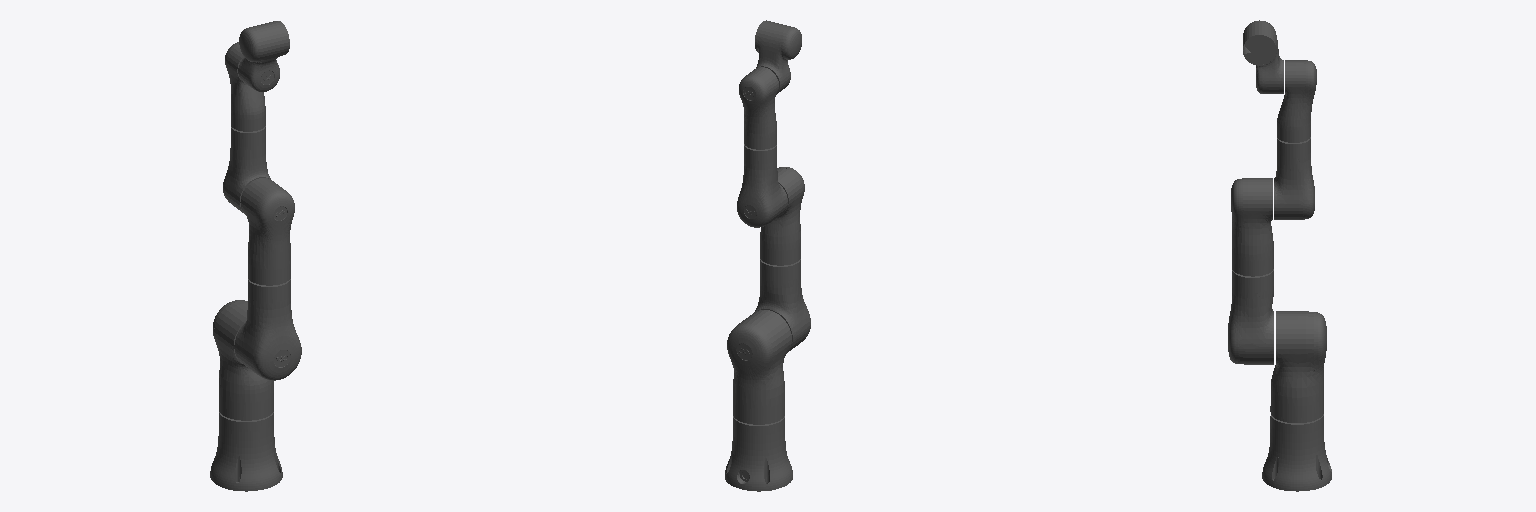
robot.urdf — rizon10:
<?xml version="1.0"?>
<!-- ======================================================================== -->
<!-- | Flexiv Rizon 10 (with blurred dynamic parameters)                    | -->
<!-- ======================================================================== -->
<robot name="rizon10">
  <joint name="joint1" type="revolute">
    <parent link="base_link" />
    <child link="link1" />
    <origin rpy="0.0 0.0 -3.141592653589793" xyz="0.0 0.0 0.21" />
    <axis xyz="0 0 1" />
    <limit effort="261" lower="-2.7925" upper="2.7925" velocity="1.7453" />
  </joint>
  <joint name="joint2" type="revolute">
    <parent link="link1" />
    <child link="link2" />
    <origin rpy="0.0 0.0 0.0" xyz="0.0 0.0675 0.24" />
    <axis xyz="0 1 0" />
    <limit effort="261" lower="-2.6704" upper="2.6704" velocity="1.7453" />
  </joint>
  <joint name="joint3" type="revolute">
    <parent link="link2" />
    <child link="link3" />
    <origin rpy="0.0 0.0 0.0" xyz="0.0 0.0625 0.2275" />
    <axis xyz="0 0 1" />
    <limit effort="123" lower="-2.7925" upper="2.7925" velocity="2.0944" />
  </joint>
  <joint name="joint4" type="revolute">
    <parent link="link3" />
    <child link="link4" />
    <origin rpy="0.0 0.0 -3.141592653589793" xyz="0.0 -0.0625 0.2225" />
    <axis xyz="0 1 0" />
    <limit effort="123" lower="-2.7053" upper="2.7053" velocity="2.0944" />
  </joint>
  <joint name="joint5" type="revolute">
    <parent link="link4" />
    <child link="link5" />
    <origin rpy="0.0 0.0 -3.141592653589793" xyz="0.0 0.0575 0.205" />
    <axis xyz="0 0 1" />
    <limit effort="57" lower="-2.9671" upper="2.9671" velocity="3.8397" />
  </joint>
  <joint name="joint6" type="revolute">
    <parent link="link5" />
    <child link="link6" />
    <origin rpy="0.0 0.0 0.0" xyz="0.0 0.03 0.19" />
    <axis xyz="0 1 0" />
    <limit effort="57" lower="-1.3963" upper="4.5379" velocity="3.8397" />
  </joint>
  <joint name="joint7" type="revolute">
    <parent link="link6" />
    <child link="link7" />
    <origin rpy="0.0 -1.5707963478683205 0.0" xyz="-0.015 0.073 0.11" />
    <axis xyz="0 0 1" />
    <limit effort="57" lower="-2.9671" upper="2.9671" velocity="3.8397" />
  </joint>
  <joint name="link7_to_flange" type="fixed">
    <parent link="link7" />
    <child link="flange" />
    <origin rpy="0.0 0.0 -3.141592653589793" xyz="0.0 0.0 0.081" />
  </joint>

  <link name="base_link">
    <inertial>
      <mass value="9.2" />
      <origin rpy="0 0 0" xyz="0.0 -0.0 0.13" />
      <inertia ixx="0.08" ixy="0.0" ixz="-0.0" iyy="0.08" iyz="0.0" izz="0.04" />
    </inertial>
    <visual name="shell">
      <origin rpy="0 0 0" xyz="0 0 0" />
      <geometry>
        <mesh filename="package://meshes/rizon10/visual/link0.obj" />
      </geometry>
      <material name="rizon_dark_grey" />
    </visual>
    <collision name="hull">
      <origin rpy="0 0 0" xyz="0 0 0" />
      <geometry>
        <mesh filename="package://meshes/rizon10/collision/link0.stl" />
      </geometry>
    </collision>
  </link>
  <link name="link1">
    <inertial>
      <mass value="9.7" />
      <origin rpy="0 0 0" xyz="0.0 0.03 0.16" />
      <inertia ixx="0.18" ixy="0.0" ixz="0.0" iyy="0.17" iyz="0.02" izz="0.04" />
    </inertial>
    <visual name="shell">
      <origin rpy="0 0 0" xyz="0 0 0" />
      <geometry>
        <mesh filename="package://meshes/rizon10/visual/link1.obj" />
      </geometry>
      <material name="rizon_dark_grey" />
    </visual>
    <visual name="ring">
      <origin rpy="0 0 0" xyz="0 0 -0.0025" />
      <geometry>
        <mesh filename="package://meshes/rizon10/visual/ring.obj" scale="0.079 0.079 0.002" />
      </geometry>
      <material name="rizon_white" />
    </visual>
    <collision name="hull">
      <origin rpy="0 0 0" xyz="0 0 0" />
      <geometry>
        <mesh filename="package://meshes/rizon10/collision/link1.stl" />
      </geometry>
    </collision>
  </link>
  <link name="link2">
    <inertial>
      <mass value="6.2" />
      <origin rpy="0 0 0" xyz="0.0 0.03 0.11" />
      <inertia ixx="0.1" ixy="0.0" ixz="0.0" iyy="0.08" iyz="0.02" izz="0.03" />
    </inertial>
    <visual name="shell">
      <origin rpy="0 0 0" xyz="0 0 0" />
      <geometry>
        <mesh filename="package://meshes/rizon10/visual/link2.obj" />
      </geometry>
      <material name="rizon_dark_grey" />
    </visual>
    <visual name="ring">
      <origin rpy="1.5707963 0 0" xyz="0 -0.0025 0" />
      <geometry>
        <mesh filename="package://meshes/rizon10/visual/ring.obj" scale="0.079 0.079 0.002" />
      </geometry>
      <material name="rizon_white" />
    </visual>
    <collision name="hull">
      <origin rpy="0 0 0" xyz="0 0 0" />
      <geometry>
        <mesh filename="package://meshes/rizon10/collision/link2.stl" />
      </geometry>
    </collision>
  </link>
  <link name="link3">
    <inertial>
      <mass value="4.6" />
      <origin rpy="0 0 0" xyz="0.0 -0.03 0.17" />
      <inertia ixx="0.04" ixy="-0.0" ixz="-0.0" iyy="0.03" iyz="-0.01" izz="0.01" />
    </inertial>
    <visual name="shell">
      <origin rpy="0 0 0" xyz="0 0 0" />
      <geometry>
        <mesh filename="package://meshes/rizon10/visual/link3.obj" />
      </geometry>
      <material name="rizon_dark_grey" />
    </visual>
    <visual name="ring">
      <origin rpy="0 0 0" xyz="0 0 -0.0025" />
      <geometry>
        <mesh filename="package://meshes/rizon10/visual/ring.obj" scale="0.062 0.062 0.002" />
      </geometry>
      <material name="rizon_white" />
    </visual>
    <collision name="hull">
      <origin rpy="0 0 0" xyz="0 0 0" />
      <geometry>
        <mesh filename="package://meshes/rizon10/collision/link3.stl" />
      </geometry>
    </collision>
  </link>
  <link name="link4">
    <inertial>
      <mass value="3.0" />
      <origin rpy="0 0 0" xyz="-0.0 0.05 0.1" />
      <inertia ixx="0.03" ixy="0.0" ixz="-0.0" iyy="0.03" iyz="0.0" izz="0.0" />
    </inertial>
    <visual name="shell">
      <origin rpy="0 0 0" xyz="0 0 0" />
      <geometry>
        <mesh filename="package://meshes/rizon10/visual/link4.obj" />
      </geometry>
      <material name="rizon_dark_grey" />
    </visual>
    <visual name="ring">
      <origin rpy="1.5707963 0 0" xyz="0 -0.0025 0" />
      <geometry>
        <mesh filename="package://meshes/rizon10/visual/ring.obj" scale="0.062 0.062 0.002" />
      </geometry>
      <material name="rizon_white" />
    </visual>
    <collision name="hull">
      <origin rpy="0 0 0" xyz="0 0 0" />
      <geometry>
        <mesh filename="package://meshes/rizon10/collision/link4.stl" />
      </geometry>
    </collision>
  </link>
  <link name="link5">
    <inertial>
      <mass value="2.4" />
      <origin rpy="0 0 0" xyz="0.0 0.01 0.13" />
      <inertia ixx="0.01" ixy="0.0" ixz="0.0" iyy="0.01" iyz="0.0" izz="0.0" />
    </inertial>
    <visual name="shell">
      <origin rpy="0 0 0" xyz="0 0 0" />
      <geometry>
        <mesh filename="package://meshes/rizon10/visual/link5.obj" />
      </geometry>
      <material name="rizon_dark_grey" />
    </visual>
    <visual name="ring">
      <origin rpy="0 0 0" xyz="0 0 -0.0025" />
      <geometry>
        <mesh filename="package://meshes/rizon10/visual/ring.obj" scale="0.051 0.051 0.002" />
      </geometry>
      <material name="rizon_white" />
    </visual>
    <collision name="hull">
      <origin rpy="0 0 0" xyz="0 0 0" />
      <geometry>
        <mesh filename="package://meshes/rizon10/collision/link5.stl" />
      </geometry>
    </collision>
  </link>
  <link name="link6">
    <inertial>
      <mass value="2.3" />
      <origin rpy="0 0 0" xyz="0.02 0.06 0.07" />
      <inertia ixx="0.01" ixy="0.0" ixz="0.0" iyy="0.01" iyz="0.0" izz="0.0" />
    </inertial>
    <visual name="shell">
      <origin rpy="0 0 0" xyz="0 0 0" />
      <geometry>
        <mesh filename="package://meshes/rizon10/visual/link6.obj" />
      </geometry>
      <material name="rizon_dark_grey" />
    </visual>
    <visual name="ring">
      <origin rpy="1.5707963 0 0" xyz="0 -0.0025 0" />
      <geometry>
        <mesh filename="package://meshes/rizon10/visual/ring.obj" scale="0.051 0.051 0.002" />
      </geometry>
      <material name="rizon_white" />
    </visual>
    <collision name="hull">
      <origin rpy="0 0 0" xyz="0 0 0" />
      <geometry>
        <mesh filename="package://meshes/rizon10/collision/link6.stl" />
      </geometry>
    </collision>
  </link>
  <link name="link7">
    <inertial>
      <mass value="0.9" />
      <origin rpy="0 0 0" xyz="0.0 -0.0 0.03" />
      <inertia ixx="0.0" ixy="0.0" ixz="0.0" iyy="0.0" iyz="0.0" izz="0.0" />
    </inertial>
    <visual name="shell">
      <origin rpy="0 0 0" xyz="0 0 0" />
      <geometry>
        <mesh filename="package://meshes/rizon10/visual/link7.obj" />
      </geometry>
      <material name="rizon_dark_grey" />
    </visual>
    <visual name="ring">
      <origin rpy="0 0 0" xyz="0 0 -0.0025" />
      <geometry>
        <mesh filename="package://meshes/rizon10/visual/ring.obj" scale="0.051 0.051 0.002" />
      </geometry>
      <material name="rizon_white" />
    </visual>
    <collision name="hull">
      <origin rpy="0 0 0" xyz="0 0 0" />
      <geometry>
        <mesh filename="package://meshes/rizon10/collision/link7.stl" />
      </geometry>
    </collision>
  </link>
  <link name="flange" />

  <material name="rizon_light_grey">
    <color rgba="0.7 0.7 0.7 1.0" />
  </material>
  <material name="rizon_dark_grey">
    <color rgba="0.4 0.4 0.4 1.0" />
  </material>
  <material name="rizon_white">
    <color rgba="1.0 1.0 1.0 1.0" />
  </material>
</robot>

--- Facts derived from the render (not from the file) ---
3 views of the same robot in one strip: view 1: azimuth 30°, elevation 25°; view 2: azimuth 150°, elevation 25°; view 3: azimuth 270°, elevation 25° (orthographic).
Model rizon10 with 9 links and 8 joints (7 revolute, 1 fixed), rooted at base_link, posed every joint at zero.
Visible links, largest first — view 1: link2, link3, base_link, link1, link6, link4, link5; view 2: link1, base_link, link4, link2, link3, link5, link6; view 3: link1, base_link, link3, link2, link4, link5, link6.
Link boxes in pixels (<box>): link2: <box>234,279,301,380</box>; link3: <box>240,178,294,285</box>; base_link: <box>210,412,282,491</box>; link1: <box>213,300,273,420</box>; link6: <box>238,21,289,91</box>; link4: <box>223,126,270,212</box>; link5: <box>225,42,265,131</box>; link1: <box>727,310,791,424</box>; base_link: <box>725,416,792,491</box>; link4: <box>737,144,787,227</box>; link2: <box>755,259,810,352</box>; link3: <box>760,167,804,265</box>; link5: <box>739,67,778,149</box>; link6: <box>755,20,801,94</box>; link1: <box>1270,311,1326,422</box>; base_link: <box>1262,414,1331,491</box>; link3: <box>1231,178,1273,276</box>; link2: <box>1228,269,1273,364</box>; link4: <box>1274,137,1314,219</box>; link5: <box>1277,60,1316,142</box>; link6: <box>1243,20,1283,93</box>.
Bounding box of the posed robot: 0.206 × 0.3073 × 1.45 m (x, y, z).
7 mesh visuals loaded from 9 distinct referenced files (7 OBJ); not drawn: 8 (file found but could not be loaded).